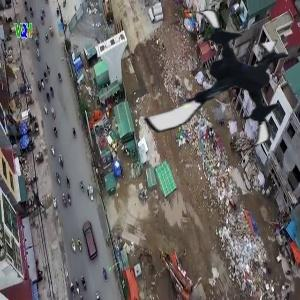drone: (136, 3, 298, 165)
